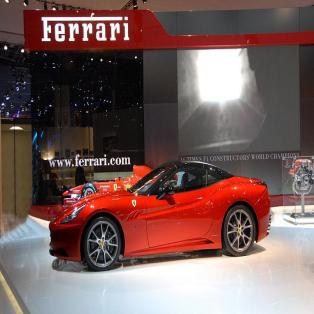Auto: (49, 157, 272, 272)
